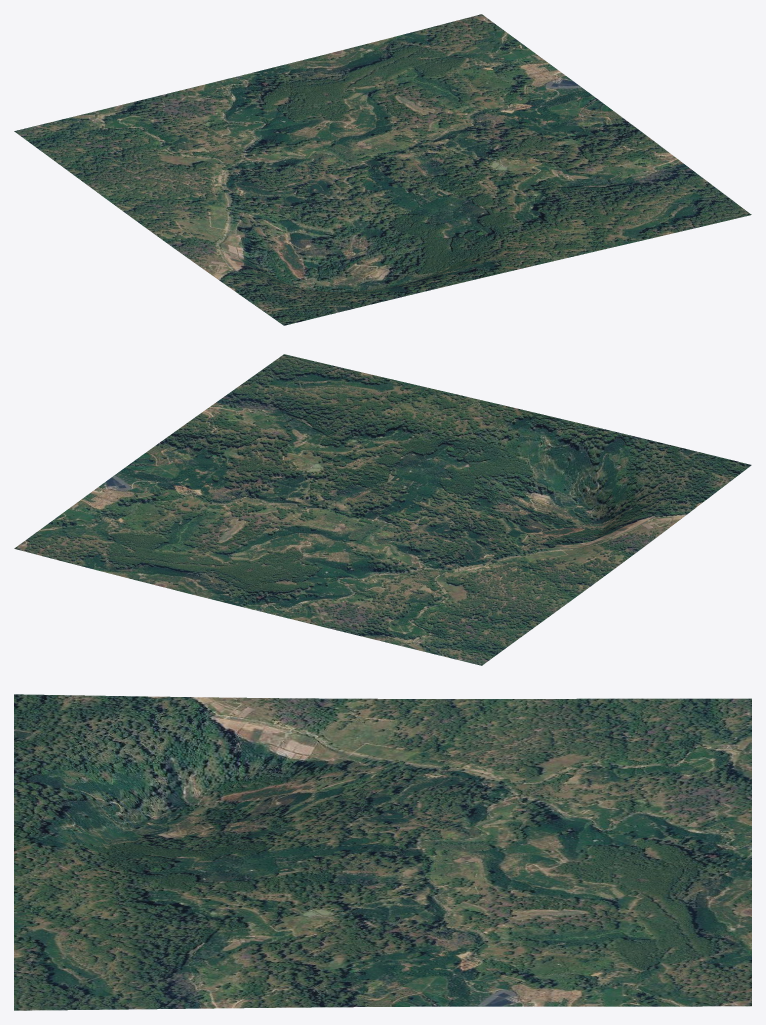
The model's file is terrain_real_T_E03_S04.glb.
The picture shows the model from 3 angles, top to bottom: view 1: azimuth 30°, elevation 25°; view 2: azimuth 150°, elevation 25°; view 3: azimuth 270°, elevation 25°; orthographic projection. The views are drawn at different scales.
Parts seen in each view (by area): view 1: Terrain_Real_DEM_T_E03_S04; view 2: Terrain_Real_DEM_T_E03_S04; view 3: Terrain_Real_DEM_T_E03_S04.
Part boxes in pixels (<box>): Terrain_Real_DEM_T_E03_S04: <box>14,14,751,325</box>; Terrain_Real_DEM_T_E03_S04: <box>14,354,751,665</box>; Terrain_Real_DEM_T_E03_S04: <box>14,694,751,1010</box>.
Bounding box in the file's own units: 2000 × 149 × 2000.
1 material, 1 textured.
